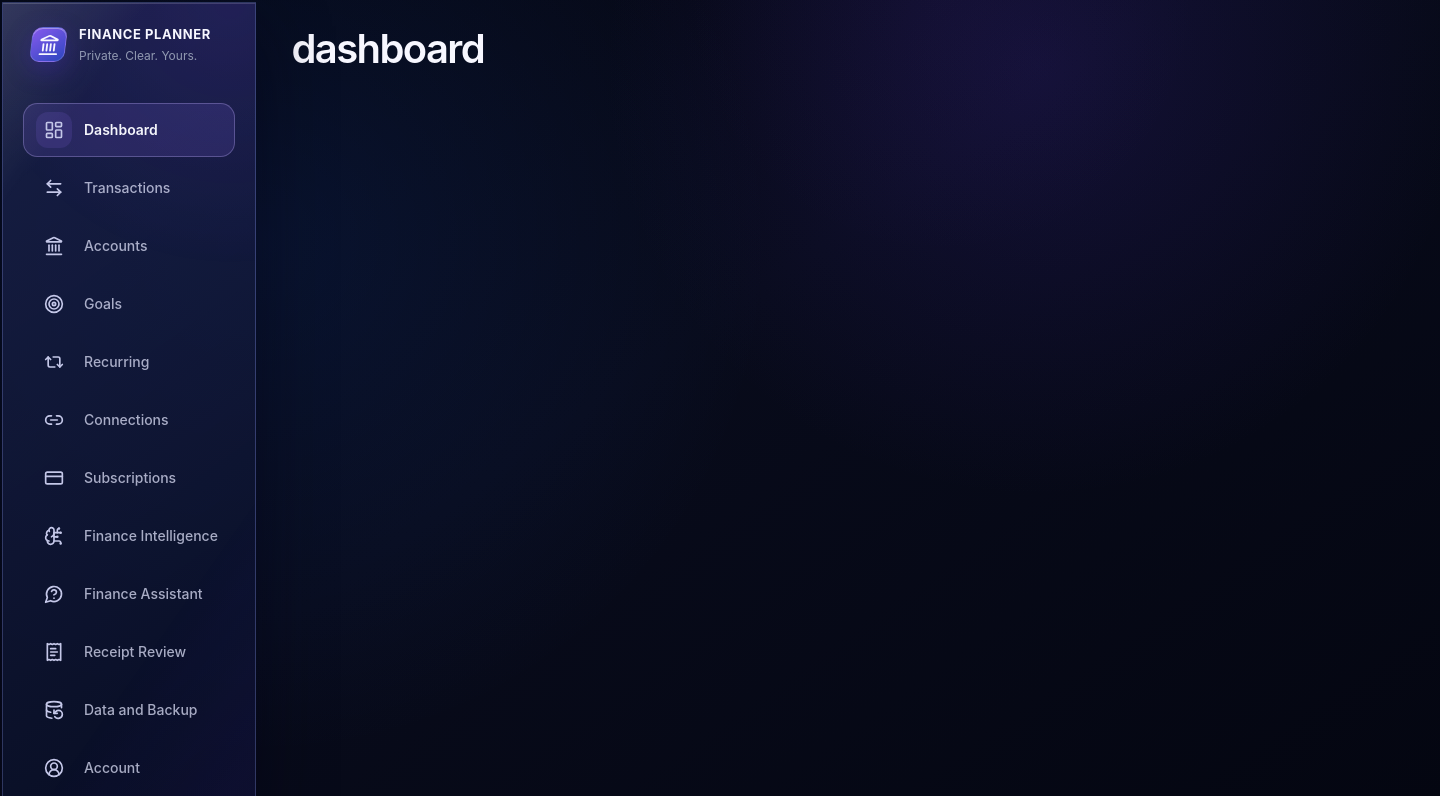
ApplicationShell navigation › switches destinations and exposes active-state semantics
Click the button "Transactions". click: (129, 188)
box: [23,161,235,215]
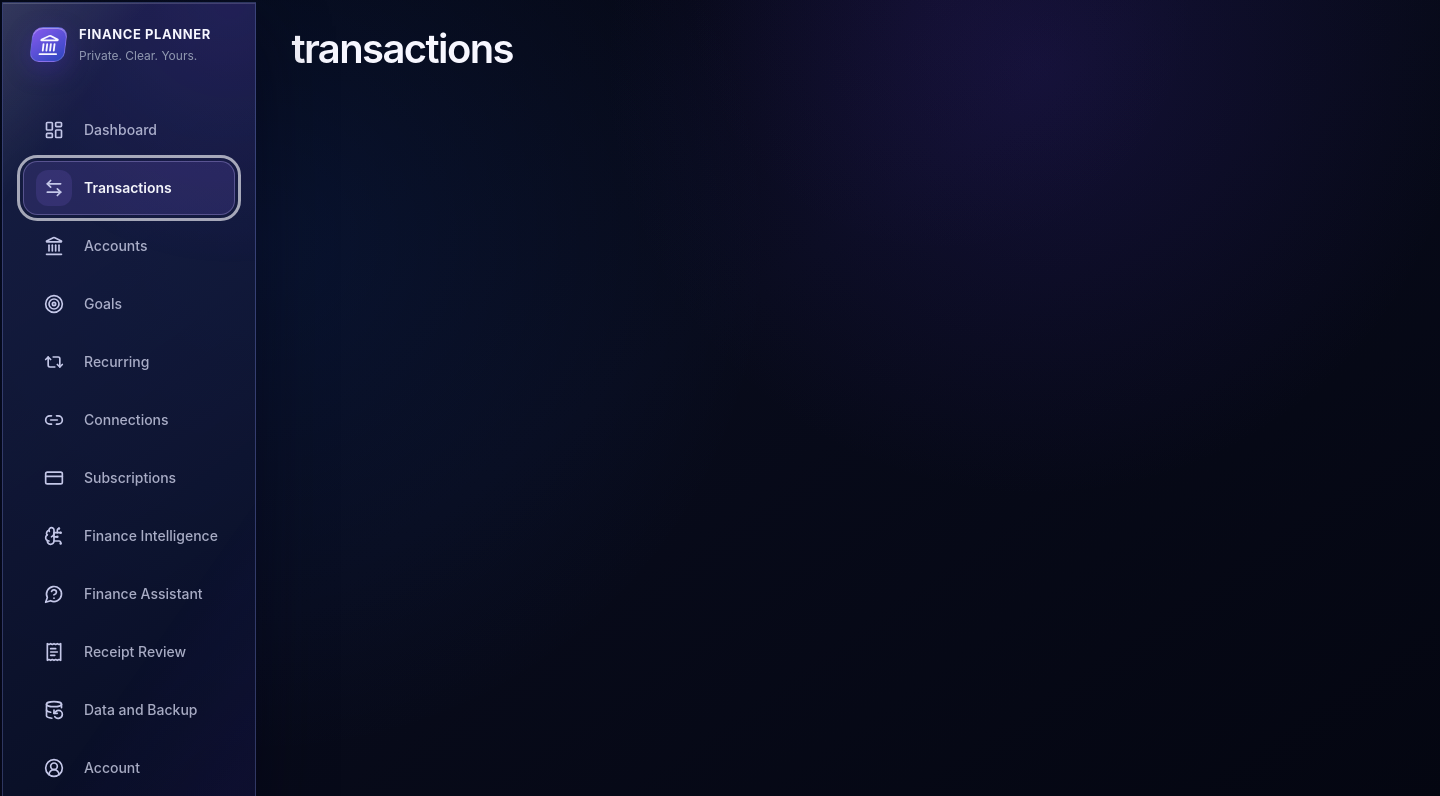
Now the heading "transactions" is shown, box [291,24,513,73]
